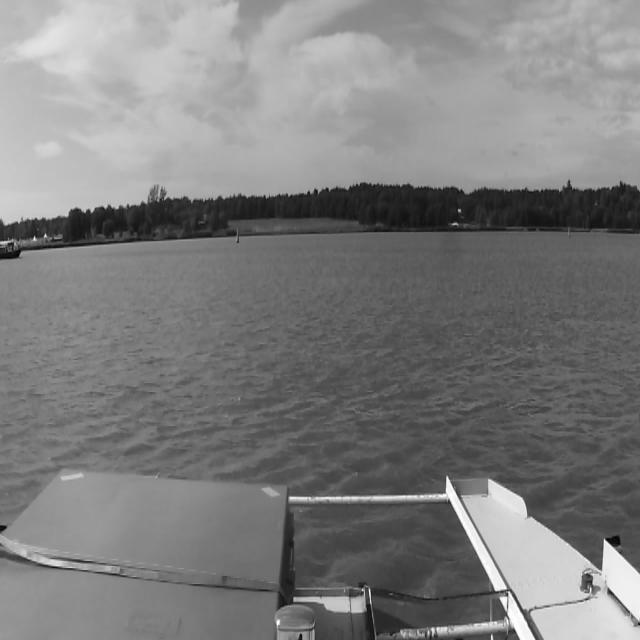ship: (0, 239, 24, 261)
